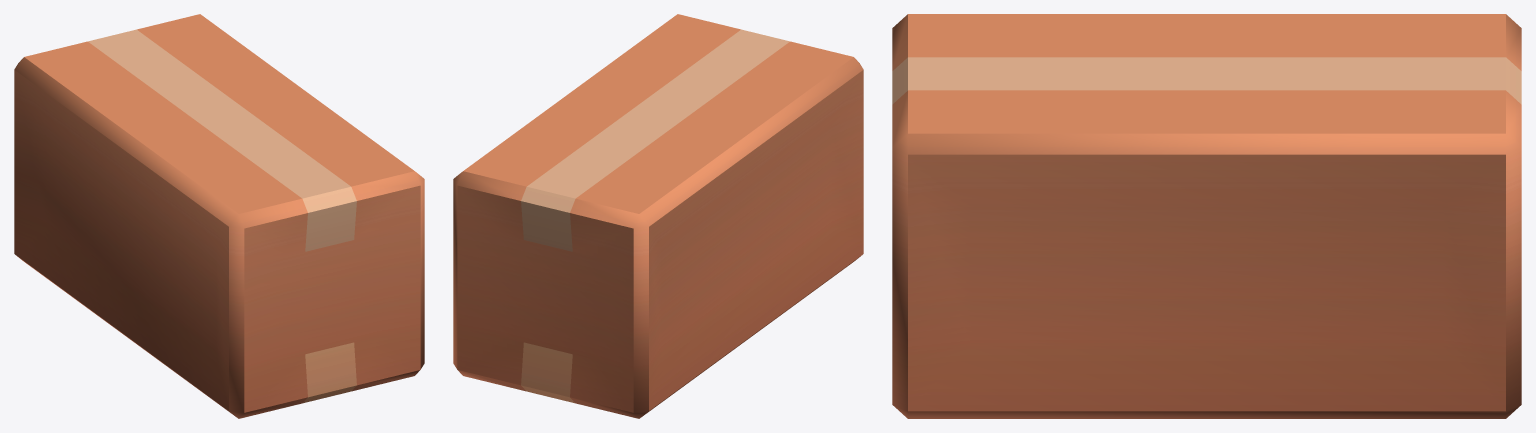
File: box-large.glb
The picture shows the model from 3 angles, left to right: view 1: azimuth 30°, elevation 25°; view 2: azimuth 150°, elevation 25°; view 3: azimuth 270°, elevation 25°; orthographic projection. The views are drawn at different scales.
Visible parts, largest first — view 1: box-large; view 2: box-large; view 3: box-large.
Part boxes in pixels (box(x1,y1,x2,y2)): box-large: box(14, 14, 424, 418); box-large: box(453, 14, 863, 418); box-large: box(892, 14, 1521, 418).
Size of the model in its own units: 0.25 by 0.25 by 0.5.
Materials: 1 (1 with a texture image).
